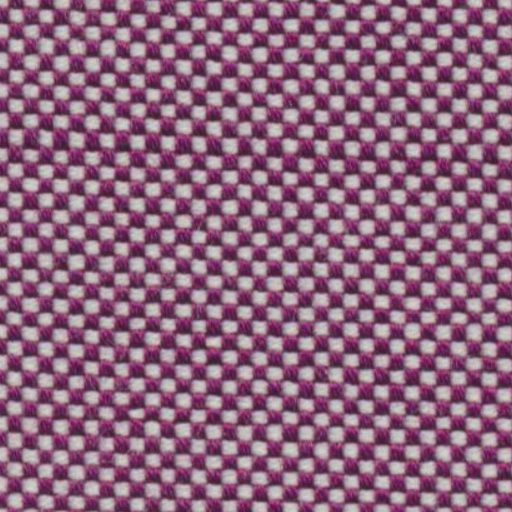TuoSha: (28, 94, 488, 202)
